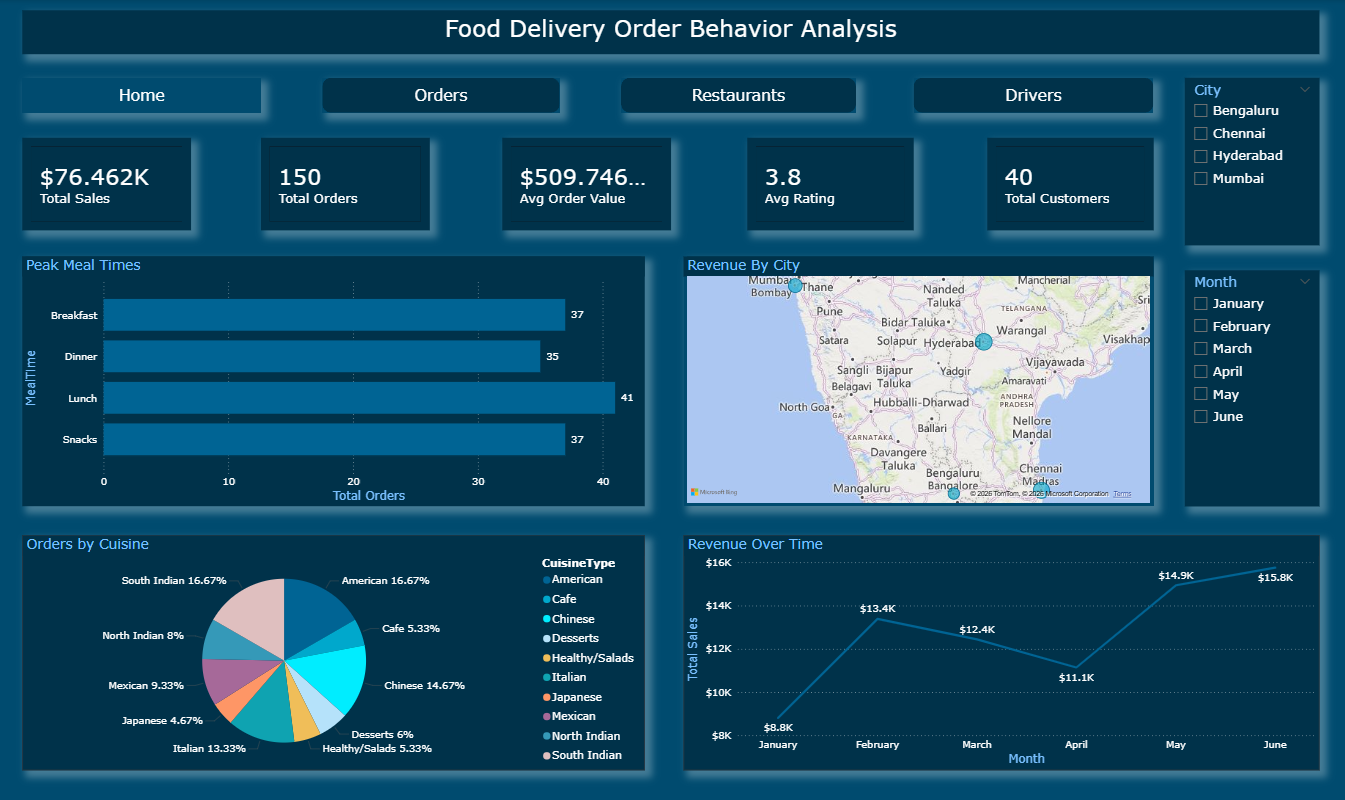

What the dashboard file says about the page in this screenshot:
{"tool":"powerbi","page":{"name":"Home","canvas":[1600,940],"ordinal":0},"visuals":[{"type":"textbox","box":[35,16,1529.3,59.8],"z":0},{"type":"actionButton","box":[35,103.9,278.4,48.1],"z":1000},{"type":"actionButton","box":[371.5,105.3,276.5,48.3],"z":2000},{"type":"actionButton","box":[713.8,103.9,279.4,48.3],"z":3000},{"type":"actionButton","box":[1056.1,103.9,280.9,48.3],"z":4000},{"type":"cardVisual","fields":{"Data":["Orders.Total Sales"]},"box":[35,182.7,230.3,96.2],"z":5000},{"type":"cardVisual","fields":{"Data":["Orders.Total Orders"]},"box":[313,182.8,223.8,96.5],"z":6000},{"type":"cardVisual","fields":{"Data":["Orders.Average Order Value"]},"box":[579.3,182.8,231.1,96.5],"z":7000},{"type":"cardVisual","fields":{"Data":["Orders.Avg Rating"]},"box":[854.3,182.8,219.4,96.5],"z":8000},{"type":"lineChart","title":"Revenue Over Time","fields":{"Category":["DateTable.Year Hierarchy.Month"],"Y":["Orders.Total Sales"]},"box":[782.6,612.9,781.1,285.2],"z":9000},{"type":"pieChart","title":"Orders by Cuisine","fields":{"Category":["Restaurants.CuisineType"],"Y":["Orders.Total Orders"]},"box":[35,612.3,693.9,285.7],"z":10000},{"type":"barChart","title":"Peak Meal Times","fields":{"Y":["Orders.Total Orders"],"Category":["Orders.MealTime"]},"box":[35,312,693.9,262.4],"z":11000},{"type":"cardVisual","fields":{"Data":["Orders.Total Customers"]},"box":[1110.3,182.8,226.7,96.5],"z":12000},{"type":"slicer","fields":{"Values":["Customers.City"]},"box":[1380.6,105,183.7,173.5],"z":13000},{"type":"slicer","fields":{"Values":["DateTable.Year Hierarchy.Month"]},"box":[1380.6,312,183.7,262.4],"z":14000},{"type":"map","title":"Revenue By City","fields":{"Category":["Customers.City"],"Size":["Orders.Total Sales"]},"box":[782.6,311.6,554.4,261.8],"z":15000}]}

Visuals, with their boxes in screenshot pixels (x1, y1, x2, y2), scaled from the page's 1600x940 canvas onto the 1345x800 screenshot:
textbox: 29, 14, 1315, 65
actionButton: 29, 88, 263, 129
actionButton: 312, 90, 545, 131
actionButton: 600, 88, 835, 130
actionButton: 888, 88, 1124, 130
cardVisual - Orders.Total Sales: 29, 155, 223, 237
cardVisual - Orders.Total Orders: 263, 156, 451, 238
cardVisual - Orders.Average Order Value: 487, 156, 681, 238
cardVisual - Orders.Avg Rating: 718, 156, 903, 238
"Revenue Over Time" lineChart: 658, 522, 1314, 764
"Orders by Cuisine" pieChart: 29, 521, 613, 764
"Peak Meal Times" barChart: 29, 266, 613, 489
cardVisual - Orders.Total Customers: 933, 156, 1124, 238
slicer - Customers.City: 1161, 89, 1315, 237
slicer - DateTable.Year Hierarchy.Month: 1161, 266, 1315, 489
"Revenue By City" map: 658, 265, 1124, 488
